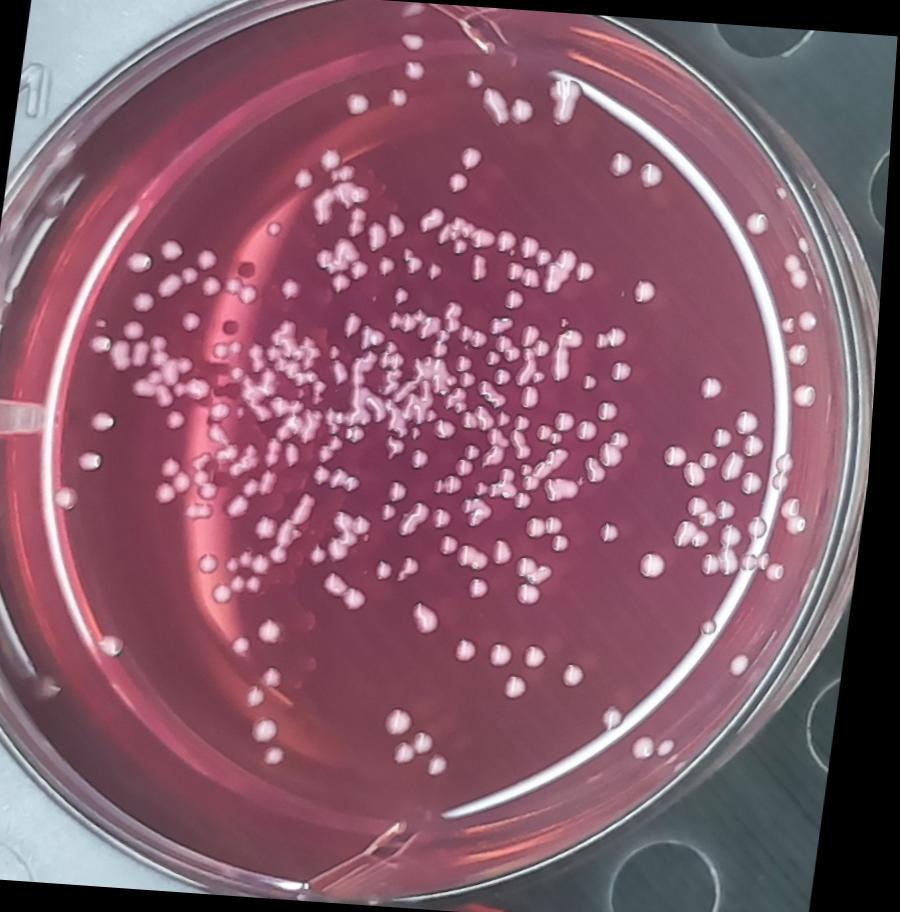staphylo-: (156, 452, 201, 508), (324, 571, 380, 615), (540, 246, 583, 298), (397, 726, 442, 770), (311, 464, 369, 496), (600, 428, 639, 470), (412, 600, 453, 637), (275, 520, 307, 567), (462, 496, 502, 532), (223, 272, 265, 306), (503, 260, 550, 290), (640, 548, 678, 584), (527, 510, 571, 540), (593, 322, 634, 354), (602, 148, 638, 182), (635, 159, 670, 193), (388, 706, 425, 738), (174, 376, 216, 404), (256, 712, 289, 747), (292, 490, 324, 526), (261, 614, 294, 648), (583, 452, 616, 486), (630, 276, 664, 308), (506, 672, 539, 704), (341, 89, 375, 120), (565, 660, 597, 692), (109, 339, 139, 373), (224, 493, 259, 522), (89, 407, 125, 435), (149, 333, 177, 369), (492, 639, 524, 670), (518, 582, 551, 612), (56, 484, 89, 514), (457, 635, 488, 666), (526, 641, 557, 672), (398, 554, 429, 585), (384, 434, 416, 464), (321, 433, 351, 464), (103, 632, 136, 660), (79, 447, 112, 475), (248, 682, 278, 712), (257, 512, 287, 542), (610, 357, 641, 386), (606, 701, 635, 731), (156, 272, 187, 300), (264, 662, 294, 690), (577, 417, 607, 445), (536, 422, 571, 446), (130, 288, 161, 315), (211, 338, 249, 360), (495, 536, 521, 568), (126, 250, 158, 276), (279, 274, 308, 302), (233, 631, 262, 659), (520, 383, 548, 412), (165, 407, 195, 434), (132, 376, 163, 402), (317, 146, 345, 174), (433, 752, 461, 780), (574, 258, 602, 286), (199, 550, 228, 577), (376, 556, 403, 585), (159, 236, 189, 262), (193, 246, 223, 272), (341, 310, 367, 339), (470, 576, 499, 602), (433, 418, 464, 442), (267, 745, 298, 769), (132, 338, 155, 370), (411, 447, 438, 474), (601, 520, 629, 546), (598, 398, 626, 424), (390, 478, 417, 504), (433, 506, 460, 532), (518, 234, 545, 260), (181, 308, 207, 335), (284, 442, 309, 470), (501, 288, 530, 312), (555, 410, 584, 434), (89, 333, 119, 356), (442, 532, 468, 558), (123, 318, 151, 342), (520, 322, 545, 348), (216, 582, 242, 606), (156, 384, 180, 410), (391, 284, 416, 308), (581, 370, 606, 394), (200, 275, 225, 299), (249, 574, 273, 598), (553, 532, 579, 554), (264, 216, 287, 239), (533, 247, 557, 269), (495, 366, 519, 388), (181, 264, 203, 287), (241, 546, 262, 569), (233, 572, 252, 596), (384, 502, 405, 522), (227, 554, 247, 574), (179, 356, 199, 374)
